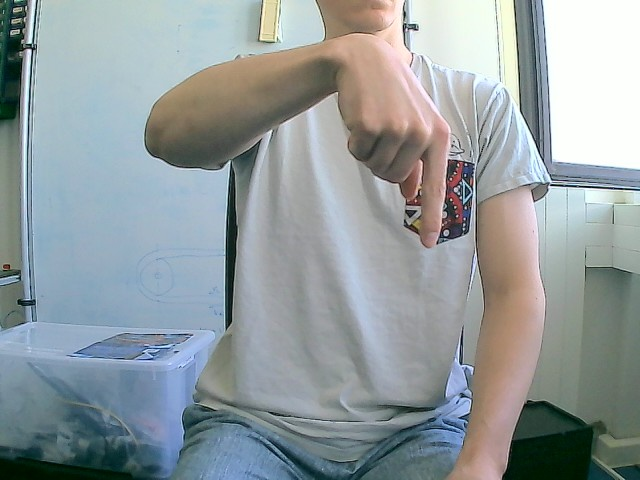down: (333, 32, 453, 248)
